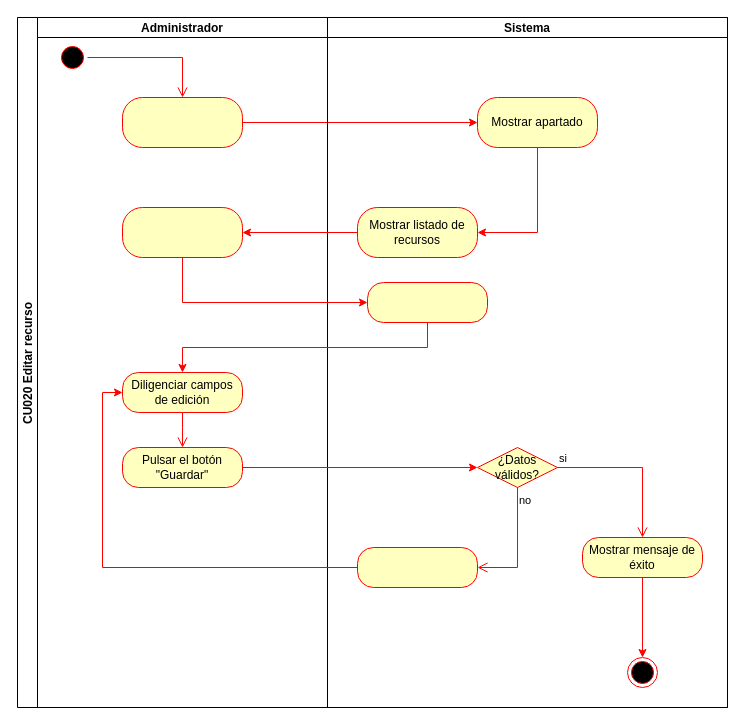
This 745x725 diagram has some shape labels left out. The shapes that lost their labels are listed below. From the top down, each one's centre as x and y in pixels, then its label:
the point at 182,122: Pulsa el apartado "Recursos"
the point at 182,232: Pulsar botón "Editar"
the point at 427,302: Mostrar campos para diligenciar
the point at 417,567: Mostrar mensaje de error
